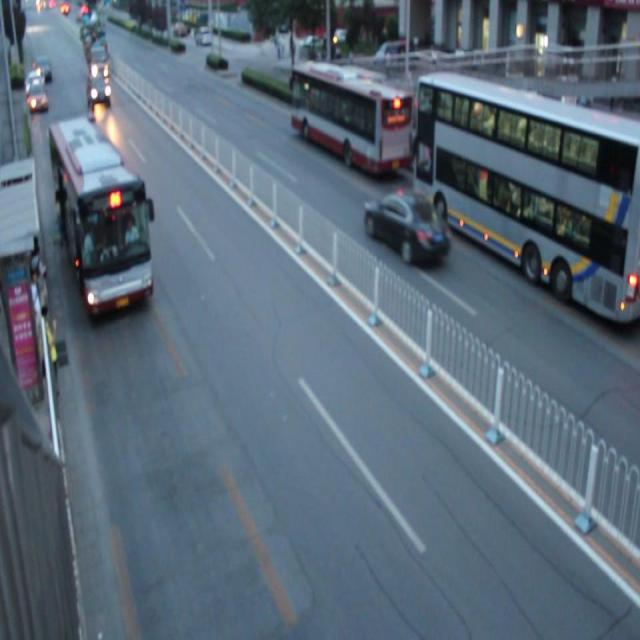car: (362, 190, 450, 263), (87, 72, 112, 110), (28, 81, 50, 111)
van: (416, 74, 640, 318), (47, 120, 154, 316), (292, 61, 412, 176)
